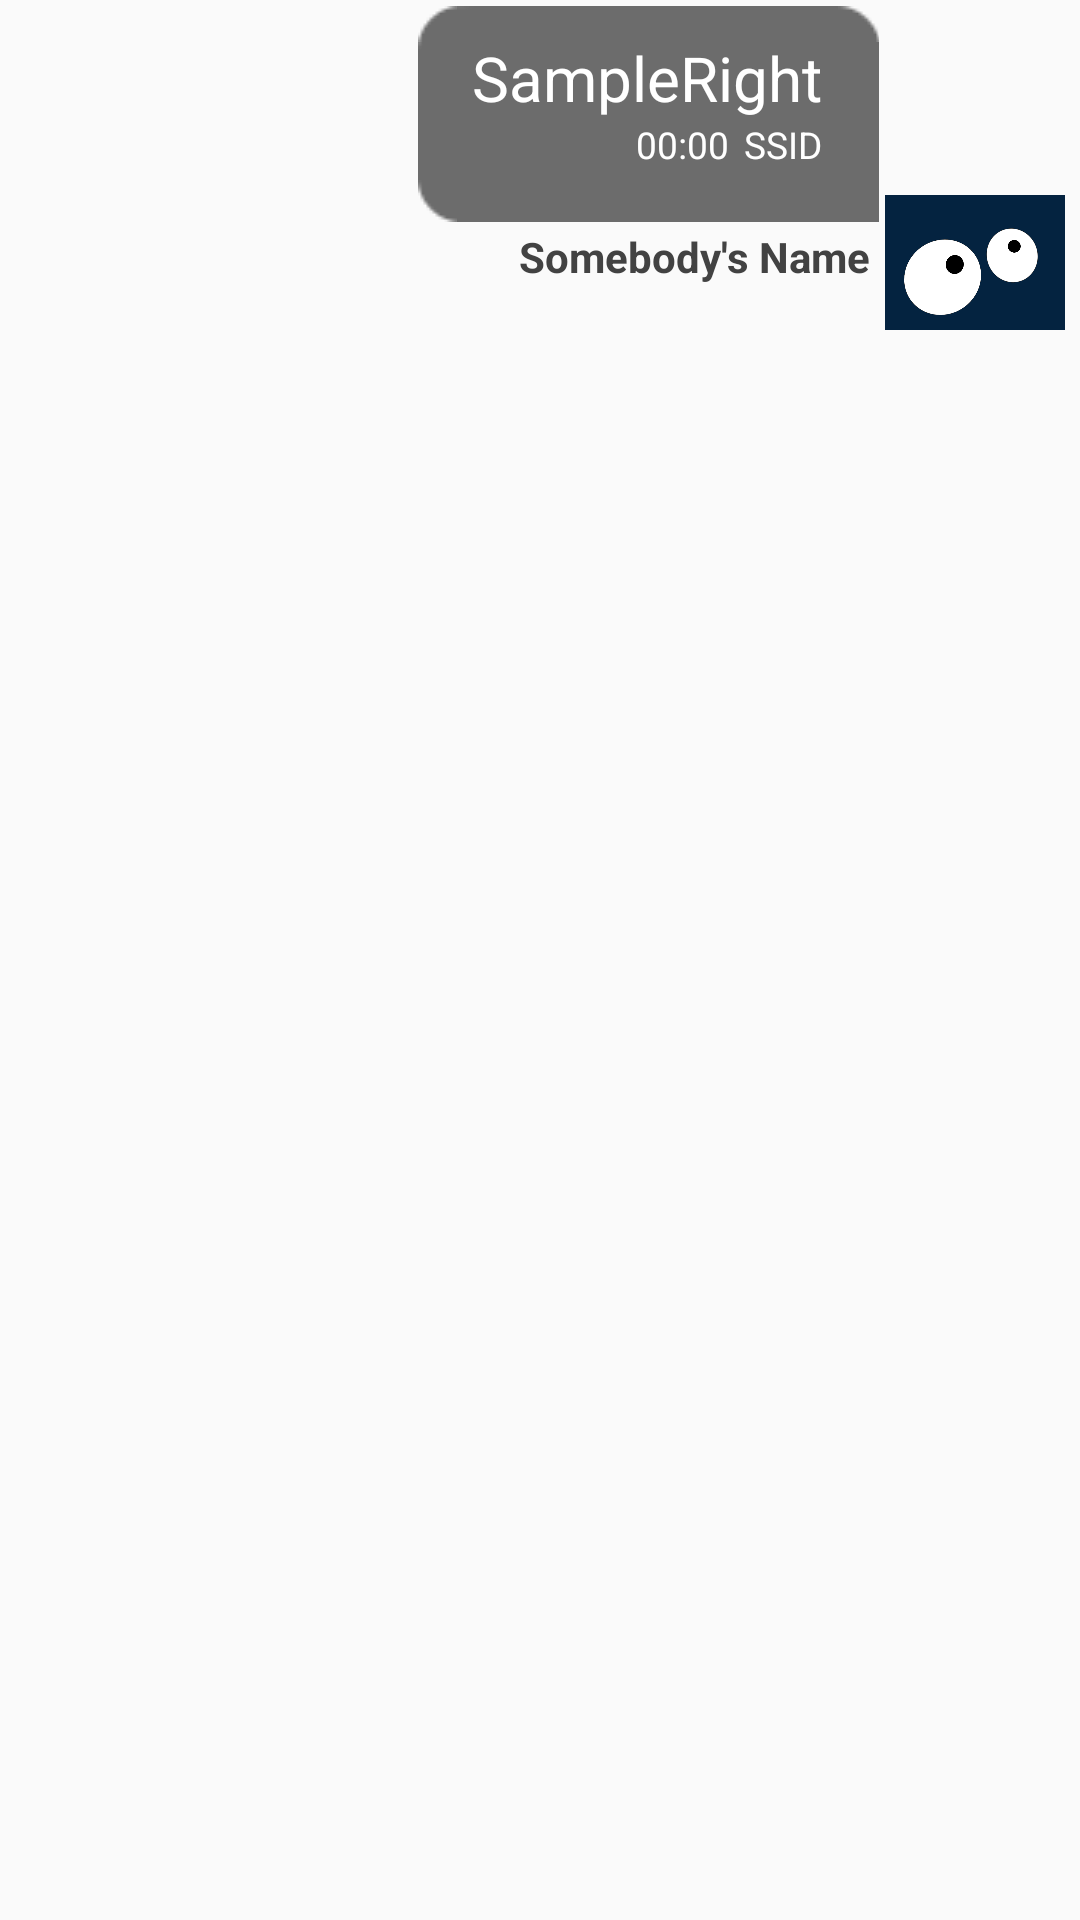

Icon click points for this 1080px x 1920px phone screenshot, format (x,y):
nophoto: (975,262)
